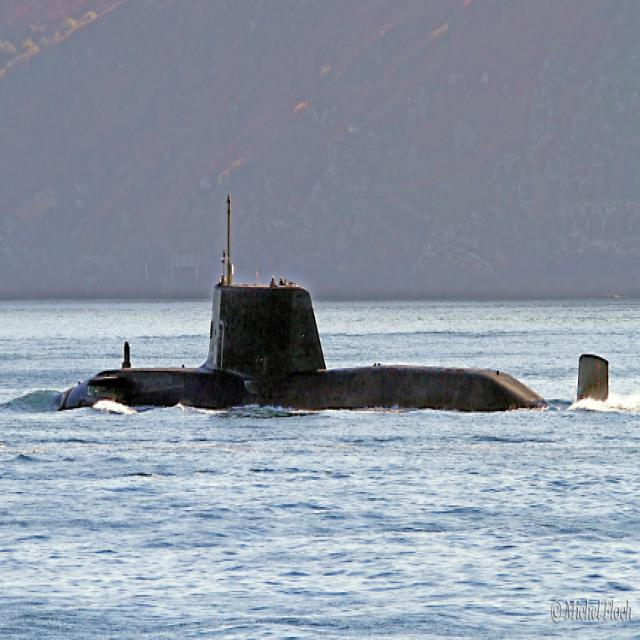submarine: (60, 188, 613, 406)
